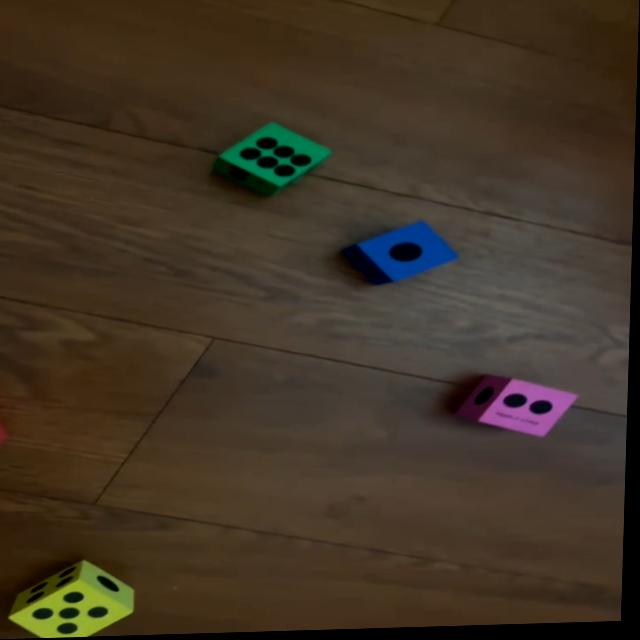blue_block: (341, 225, 465, 287)
red_block: (0, 402, 15, 448)
